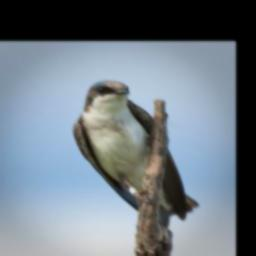Swallow: (72, 79, 200, 229)
